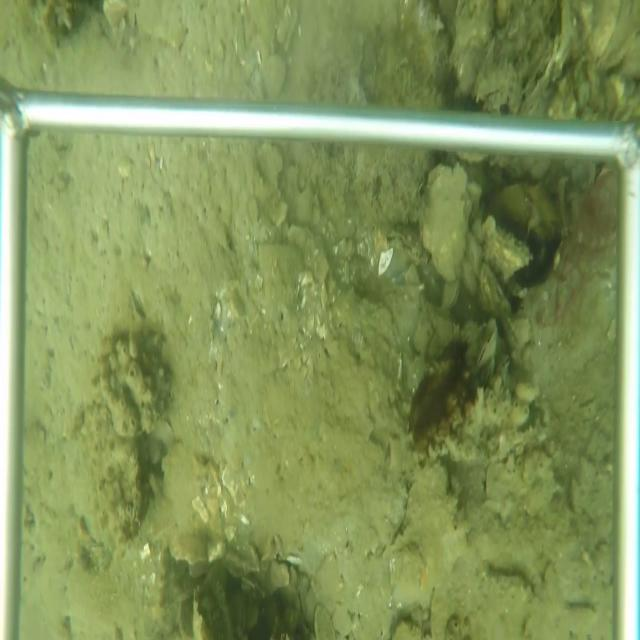Oyster-Closed: (517, 5, 575, 116), (476, 320, 498, 367), (483, 353, 496, 390)
Oyster-Indeterminate: (158, 439, 224, 570), (417, 159, 475, 287)
